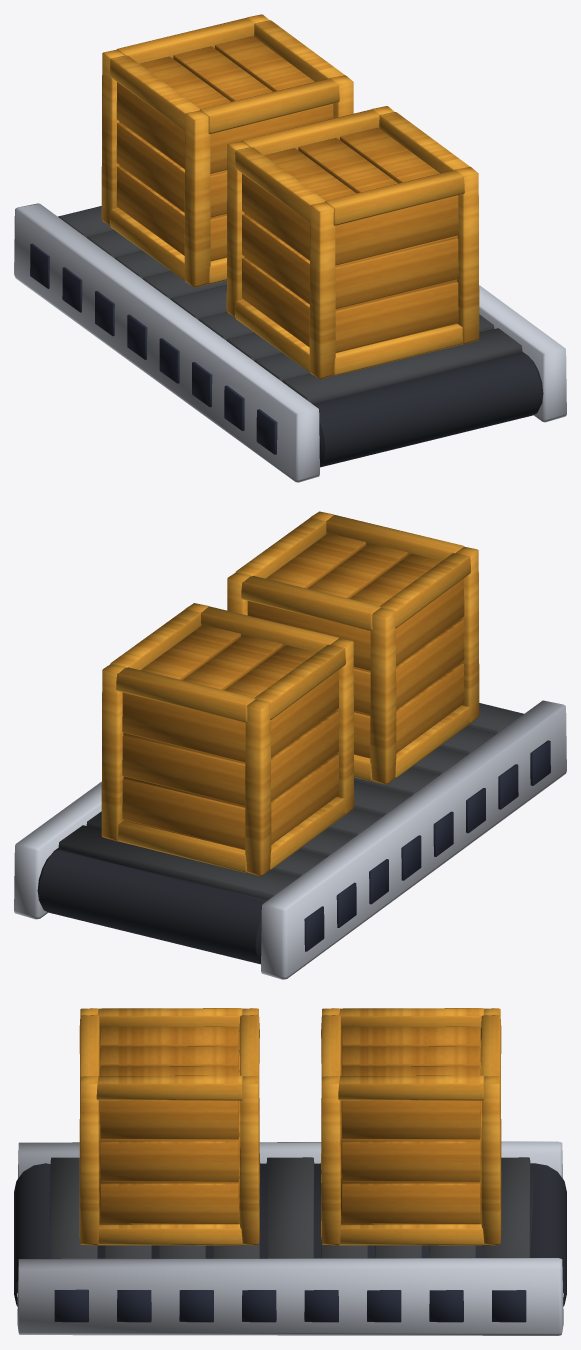
The model's file is 48_conveyor_crates.glb.
The picture shows the model from 3 angles, top to bottom: view 1: azimuth 30°, elevation 25°; view 2: azimuth 150°, elevation 25°; view 3: azimuth 270°, elevation 25°; orthographic projection. The views are drawn at different scales.
Visible parts, largest first — view 1: SideRail_L, EndRoller_1, BeltSlat_8, SideSlatZ_1_1, SideSlatZ_0_1, SideSlatZ_2_1, CornerPost_-1_12, CornerPost_-1_1, SideRail_R, RailX_1_12, RailX_1_1, CornerPost_1_1 (+44 smaller); view 2: SideRail_L, EndRoller_-1, BeltSlat_0, SideSlatZ_1_-12, SideSlatZ_0_-12, SideSlatZ_2_-12, CornerPost_-1_-1, CornerPost_-1_-12, SideRail_R, RailX_1_-12, RailX_1_-1, CornerPost_1_-12 (+44 smaller); view 3: SideRail_R, SideSlatX_1_12, SideSlatX_0_12, SideSlatX_1_1, SideSlatX_0_1, SideSlatX_2_1, SideSlatX_2_12, BeltSlat_4, SideRail_L, RailZ_1_1, RailZ_1_12, EndRoller_1 (+38 smaller).
Part boxes in pixels (x1,y1,x2,y2): SideRail_L: [14, 203, 319, 482]; EndRoller_1: [313, 352, 543, 467]; BeltSlat_8: [282, 328, 522, 403]; SideSlatZ_1_1: [335, 238, 458, 308]; SideSlatZ_0_1: [335, 281, 458, 352]; SideSlatZ_2_1: [335, 195, 458, 265]; CornerPost_-1_12: [184, 110, 210, 287]; CornerPost_-1_1: [309, 202, 335, 378]; SideRail_R: [479, 285, 566, 422]; RailX_1_12: [199, 78, 339, 134]; RailX_1_1: [325, 170, 464, 225]; CornerPost_1_1: [454, 166, 479, 343]; SideRail_L: [261, 700, 566, 979]; EndRoller_-1: [37, 849, 265, 964]; BeltSlat_0: [58, 825, 297, 899]; SideSlatZ_1_-12: [122, 735, 245, 805]; SideSlatZ_0_-12: [122, 778, 245, 849]; SideSlatZ_2_-12: [122, 692, 245, 762]; CornerPost_-1_-1: [370, 608, 396, 784]; CornerPost_-1_-12: [245, 699, 271, 875]; SideRail_R: [14, 781, 101, 919]; RailX_1_-12: [116, 667, 255, 722]; RailX_1_-1: [241, 576, 380, 631]; CornerPost_1_-12: [101, 664, 124, 841]; SideRail_R: [17, 1258, 563, 1335]; SideSlatX_1_12: [341, 1141, 480, 1181]; SideSlatX_0_12: [341, 1183, 480, 1223]; SideSlatX_1_1: [100, 1141, 239, 1181]; SideSlatX_0_1: [100, 1183, 238, 1223]; SideSlatX_2_1: [100, 1100, 239, 1139]; SideSlatX_2_12: [341, 1100, 480, 1139]; BeltSlat_4: [266, 1157, 314, 1258]; SideRail_L: [18, 1141, 562, 1178]; RailZ_1_1: [96, 1075, 242, 1100]; RailZ_1_12: [338, 1075, 484, 1100]; EndRoller_1: [14, 1163, 50, 1306].
Size of the model in its own units: 0.972 by 0.7926 by 1.74.
6 materials, 2 textured.
